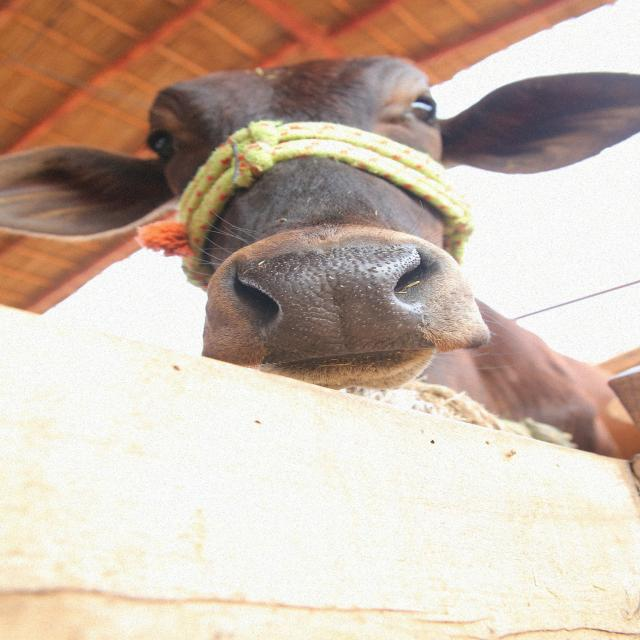muzzles: (214, 242, 468, 364)
